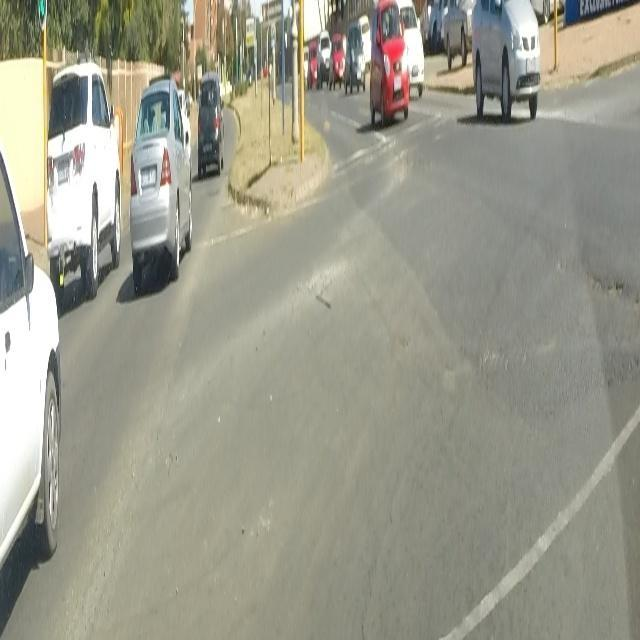pothole: (590, 262, 622, 298)
